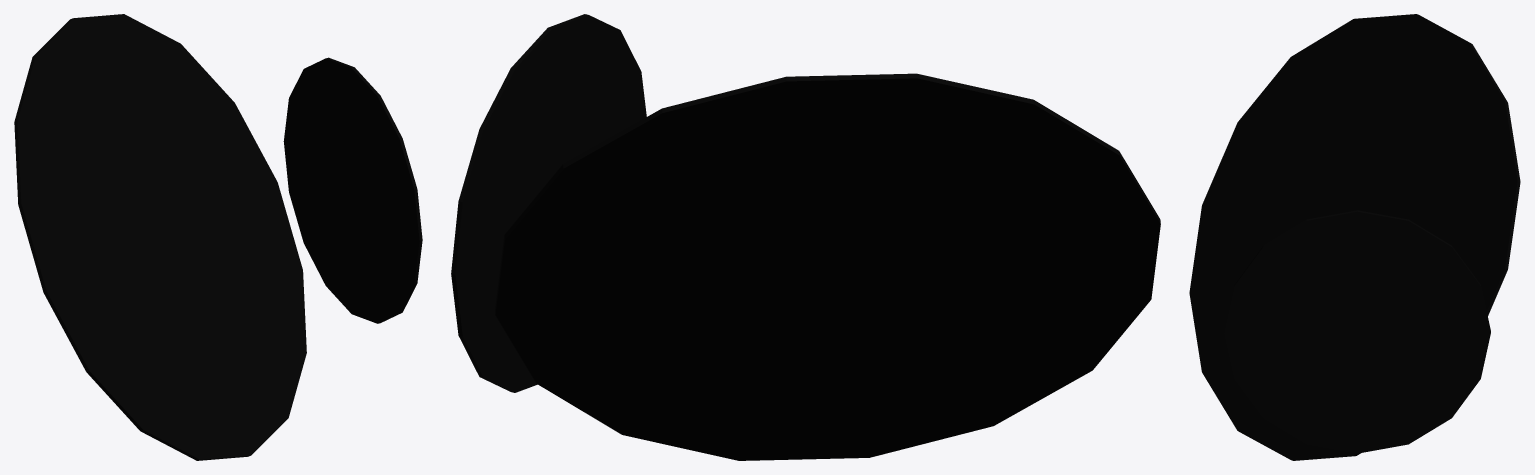
The model's file is laserlenses.obj.
The picture shows the model from 3 angles, left to right: view 1: azimuth 30°, elevation 25°; view 2: azimuth 150°, elevation 25°; view 3: azimuth 270°, elevation 25°; orthographic projection. The views are drawn at different scales.
Parts seen in each view (by area): view 1: Circle.001_Circle.002; view 2: Circle.001_Circle.002; view 3: Circle.001_Circle.002.
Boxes of the visible parts, x1,y1,x2,y2 form: Circle.001_Circle.002: [14, 14, 422, 460]; Circle.001_Circle.002: [451, 14, 1160, 460]; Circle.001_Circle.002: [1189, 14, 1520, 460].
Bounding box in the file's own units: 1.31 × 1.24 × 1.03.
1 material, 1 textured.
